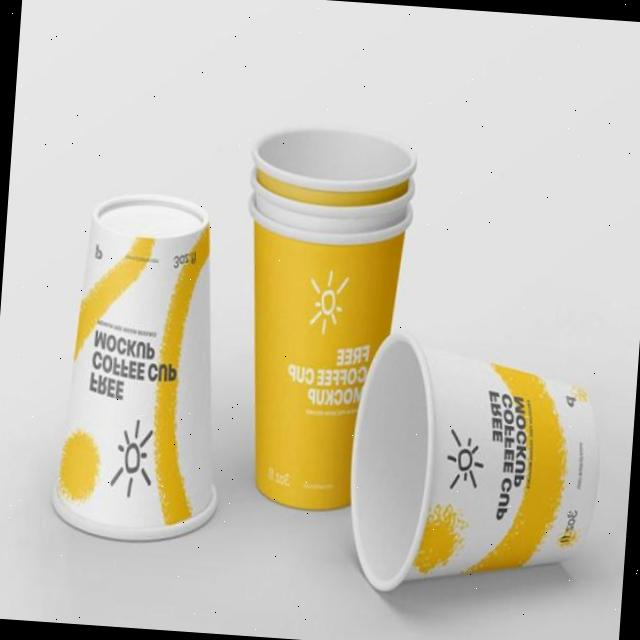trash: (224, 119, 422, 518), (340, 322, 610, 610), (47, 185, 239, 551)
